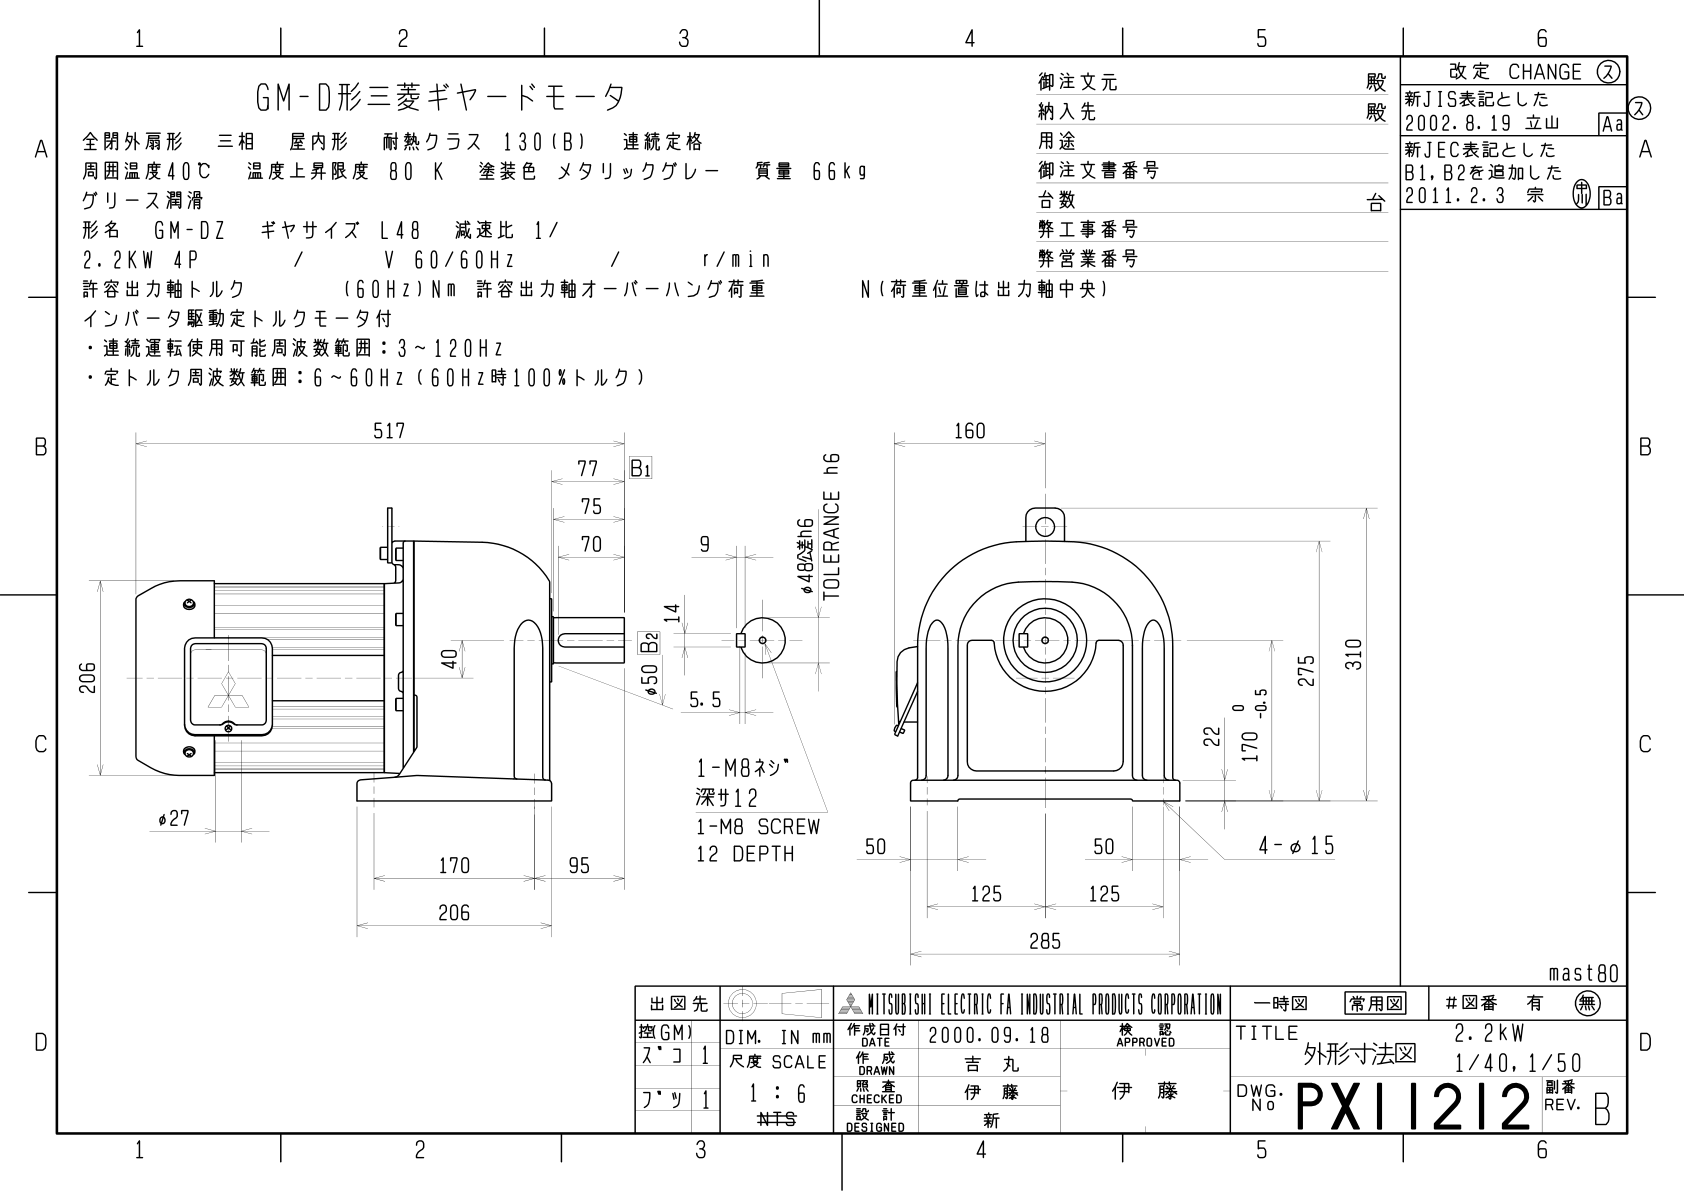GM_D_インバータ屋内_三相_脚: (10, 12, 1662, 1191)
